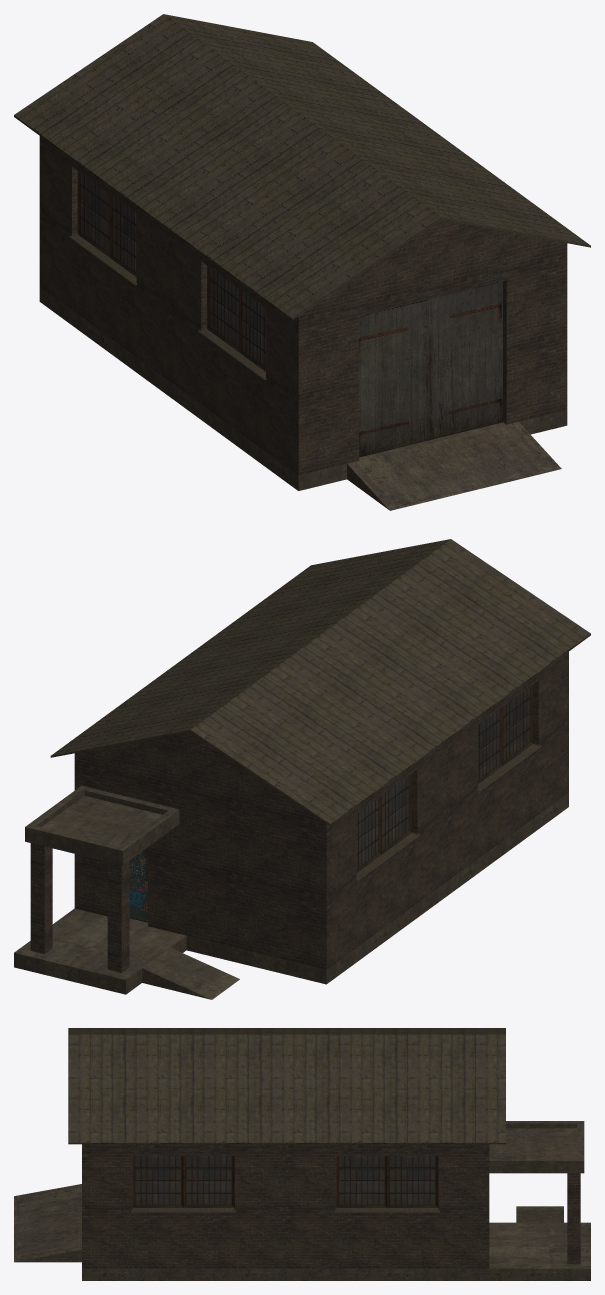
Rendered from warehouse_mx_2.obj.
The picture shows the model from 3 angles, top to bottom: view 1: azimuth 30°, elevation 25°; view 2: azimuth 150°, elevation 25°; view 3: azimuth 270°, elevation 25°; orthographic projection. The views are drawn at different scales.
Parts seen in each view (by area): view 1: warehouse_mx_2, garage_door_hr_3_piece_2, garage_door_hr_3_piece_1; view 2: warehouse_mx_2, door_hr_9; view 3: warehouse_mx_2.
Boxes of the visible parts, left/top/right/bottom form: warehouse_mx_2: left=14, top=14, right=590, bottom=510; garage_door_hr_3_piece_2: left=429, top=281, right=502, bottom=439; garage_door_hr_3_piece_1: left=359, top=299, right=429, bottom=457; warehouse_mx_2: left=14, top=539, right=590, bottom=999; door_hr_9: left=129, top=849, right=147, bottom=922; warehouse_mx_2: left=14, top=1028, right=590, bottom=1280.
Bounding box in the file's own units: 8 × 6.32 × 17.
